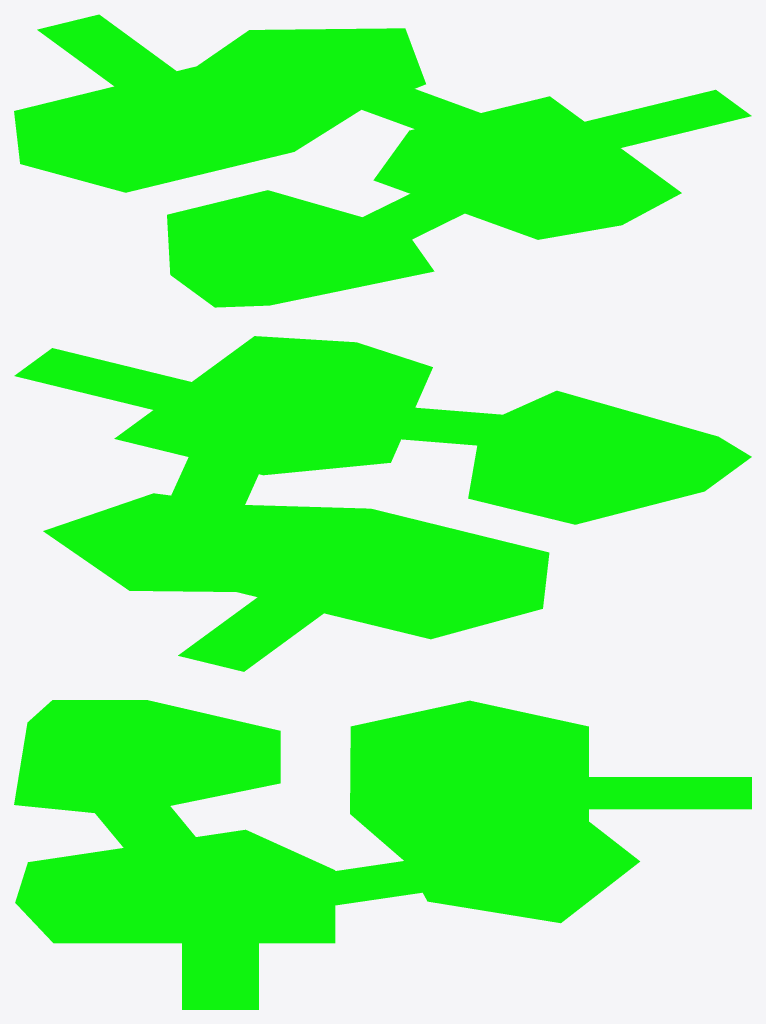
Rendered from s05b_lc1-floor.glb.
The picture shows the model from 3 angles, top to bottom: view 1: azimuth 30°, elevation 25°; view 2: azimuth 150°, elevation 25°; view 3: azimuth 270°, elevation 25°; orthographic projection. The views are drawn at different scales.
Visible parts, largest first — view 1: collision_floor-colonly; view 2: collision_floor-colonly; view 3: collision_floor-colonly.
Part boxes in pixels (x1,y1,x2,y2): collision_floor-colonly: (14, 14, 751, 307); collision_floor-colonly: (14, 336, 751, 671); collision_floor-colonly: (14, 700, 751, 1009).
Bounding box in the file's own units: 57.44 × 0.1016 × 57.59.
